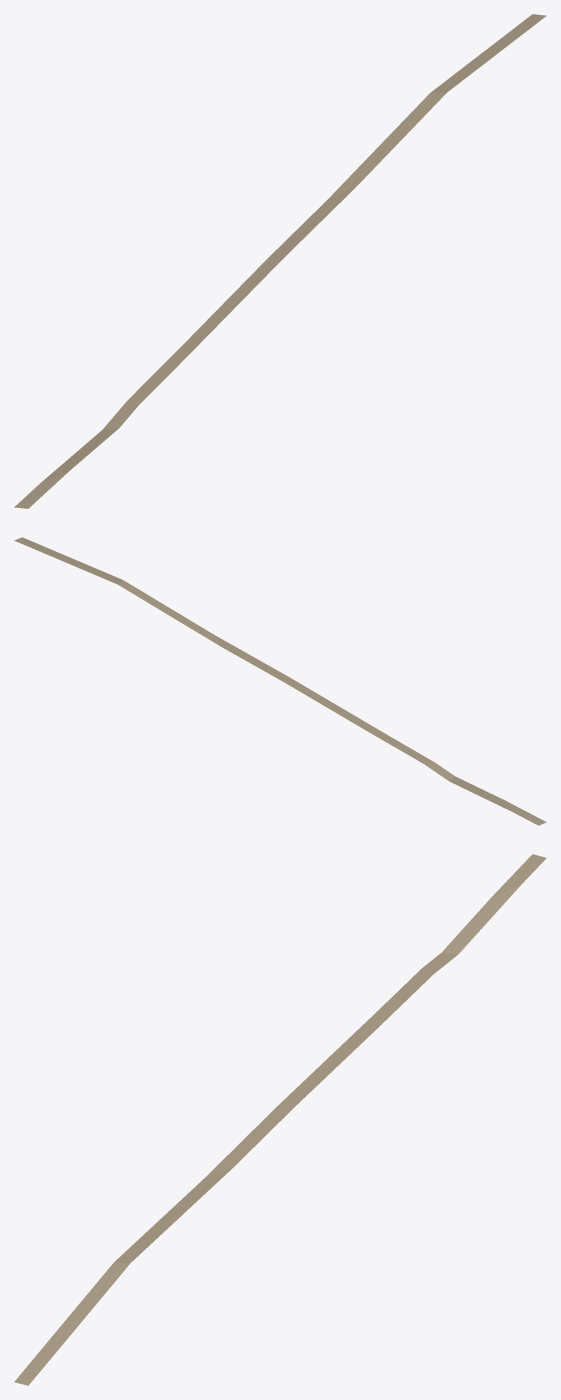
Rendered from farm_-32_-30_track.glb.
3 renders of one model, top to bottom at view 1: azimuth 90°, elevation 25°; view 2: azimuth 150°, elevation 25°; view 3: azimuth 270°, elevation 25°, orthographic. The views are drawn at different scales.
Parts seen in each view (by area): view 1: geometry_0; view 2: geometry_0; view 3: geometry_0.
Part boxes in pixels (<box>): geometry_0: <box>14,14,546,508</box>; geometry_0: <box>14,537,546,825</box>; geometry_0: <box>14,854,546,1385</box>.
Size of the model in its own units: 254 by 5.19 by 112.
